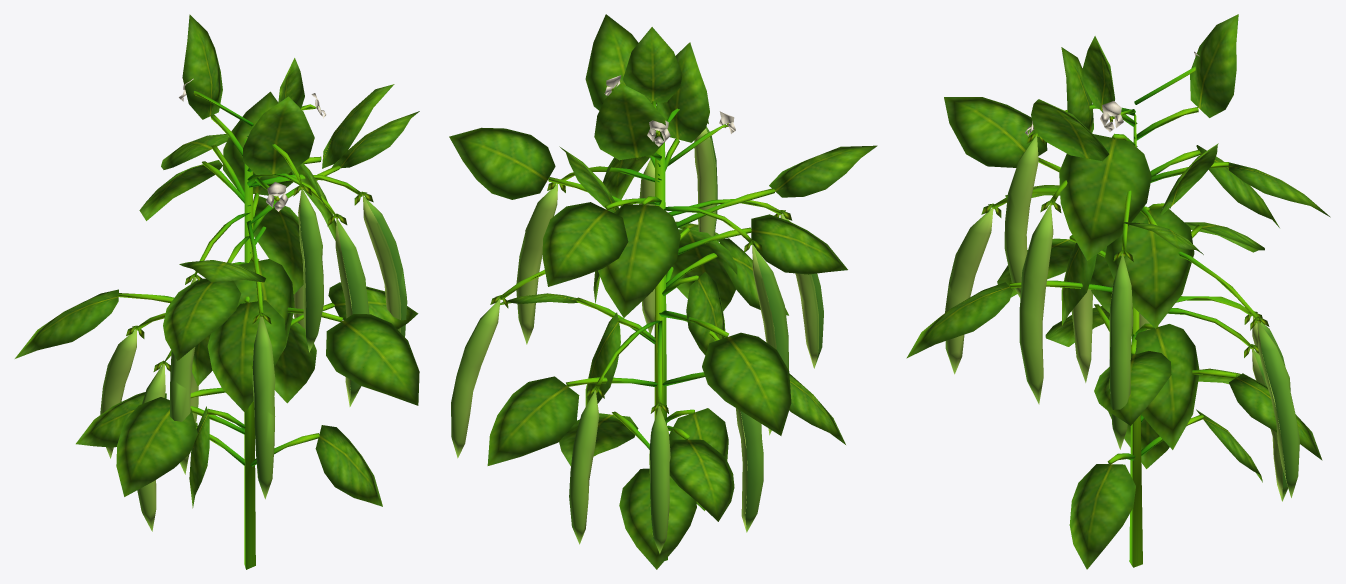
File: NP_GreenBean_Ready_LOD1.fbx
The picture shows the model from 3 angles, left to right: view 1: azimuth 30°, elevation 25°; view 2: azimuth 150°, elevation 25°; view 3: azimuth 270°, elevation 25°; orthographic projection. The views are drawn at different scales.
Visible parts, largest first — view 1: NP_GreenBean_Ready; view 2: NP_GreenBean_Ready; view 3: NP_GreenBean_Ready.
Part boxes in pixels (<box>): NP_GreenBean_Ready: <box>15,14,419,569</box>; NP_GreenBean_Ready: <box>449,14,877,569</box>; NP_GreenBean_Ready: <box>906,14,1330,569</box>.
Size of the model in its own units: 86.59 by 116 by 81.99.
